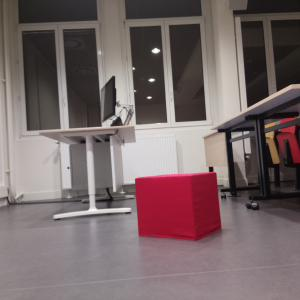medium: (134, 172, 224, 241)
